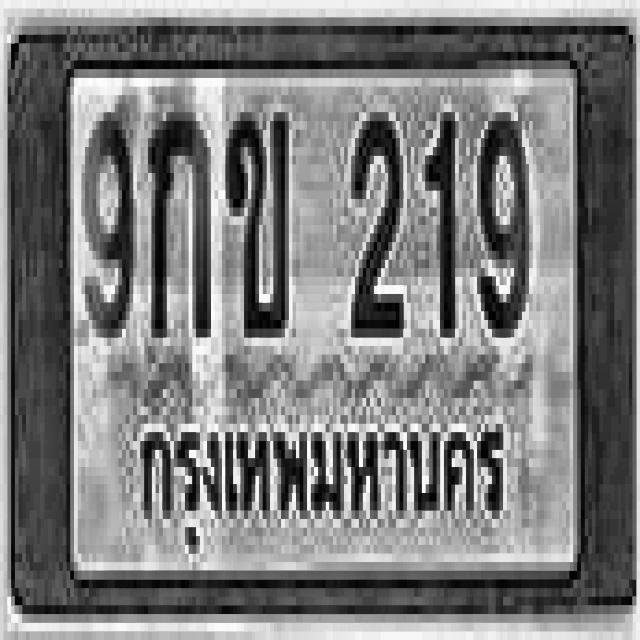license-plate: (10, 30, 634, 605)
